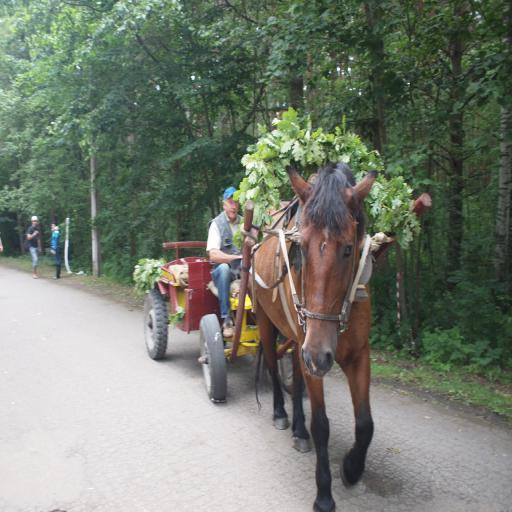horse: (244, 165, 382, 512)
